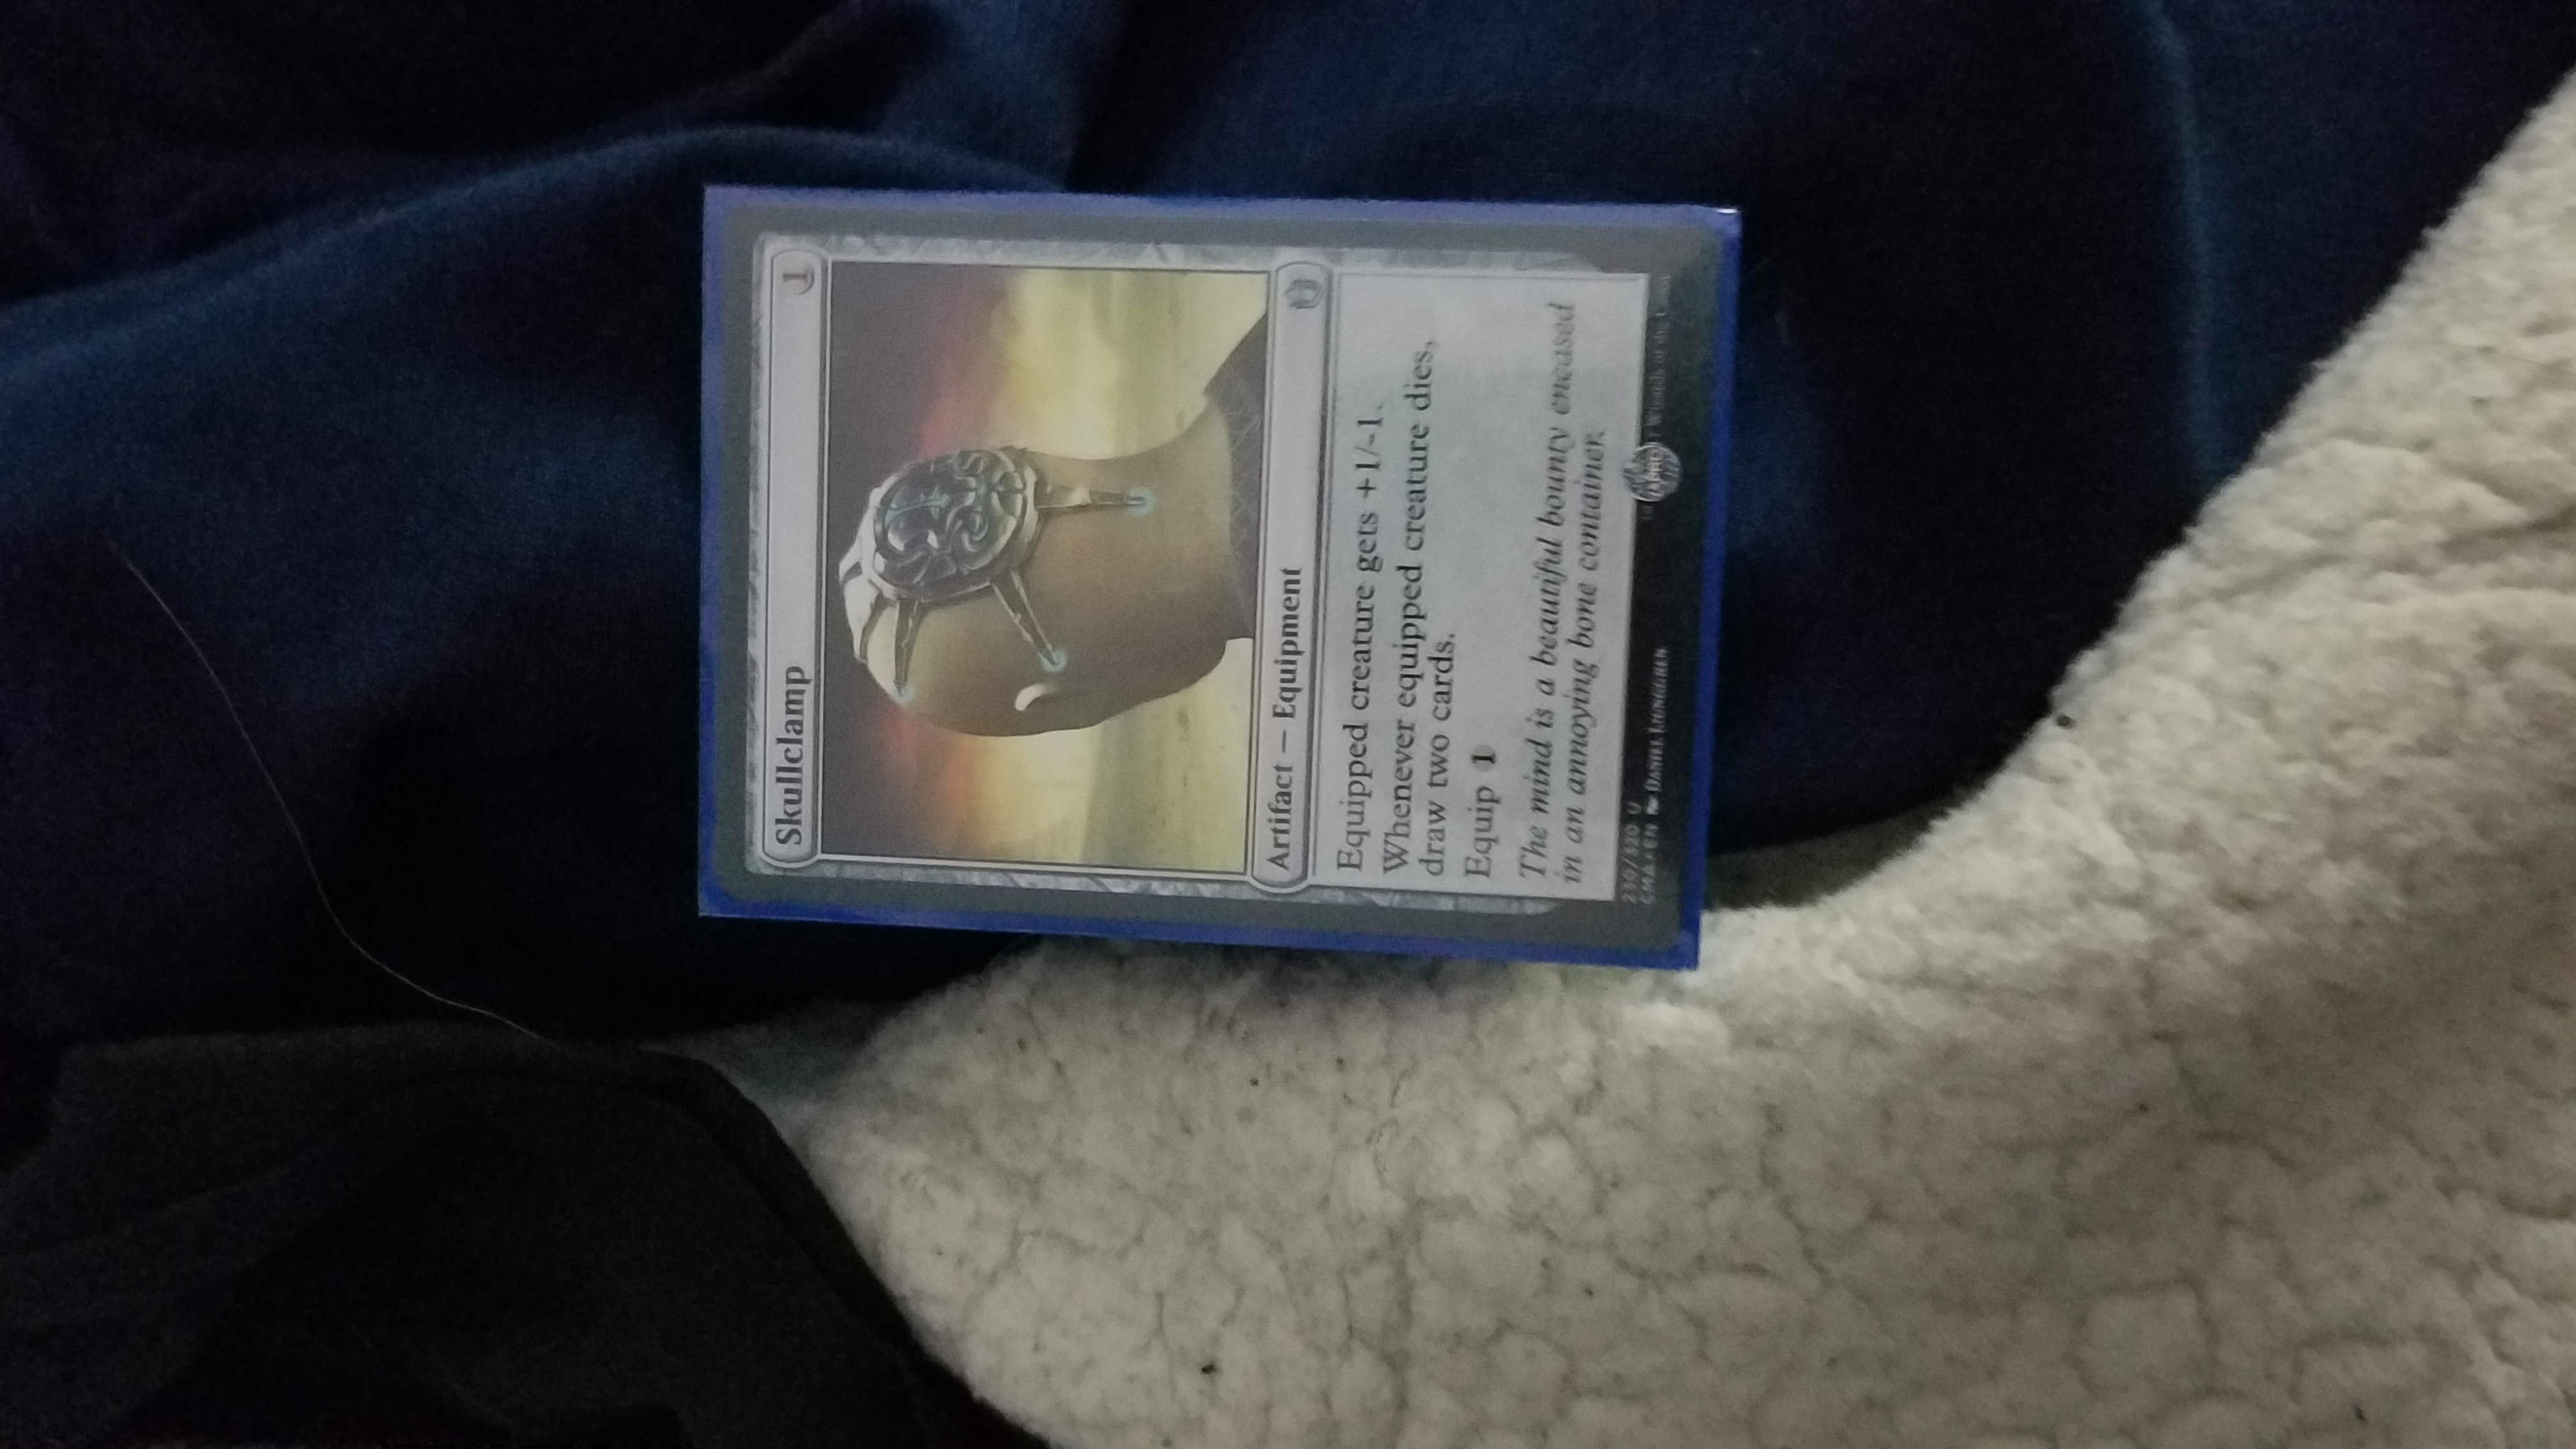Card: (702, 182, 1720, 950)
